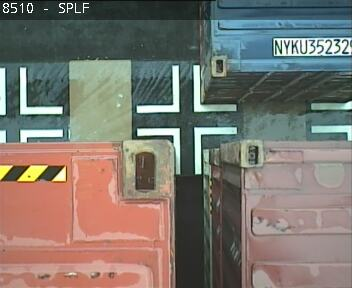groundmarker_1: (135, 64, 237, 113), (136, 126, 237, 175), (18, 66, 63, 142)
